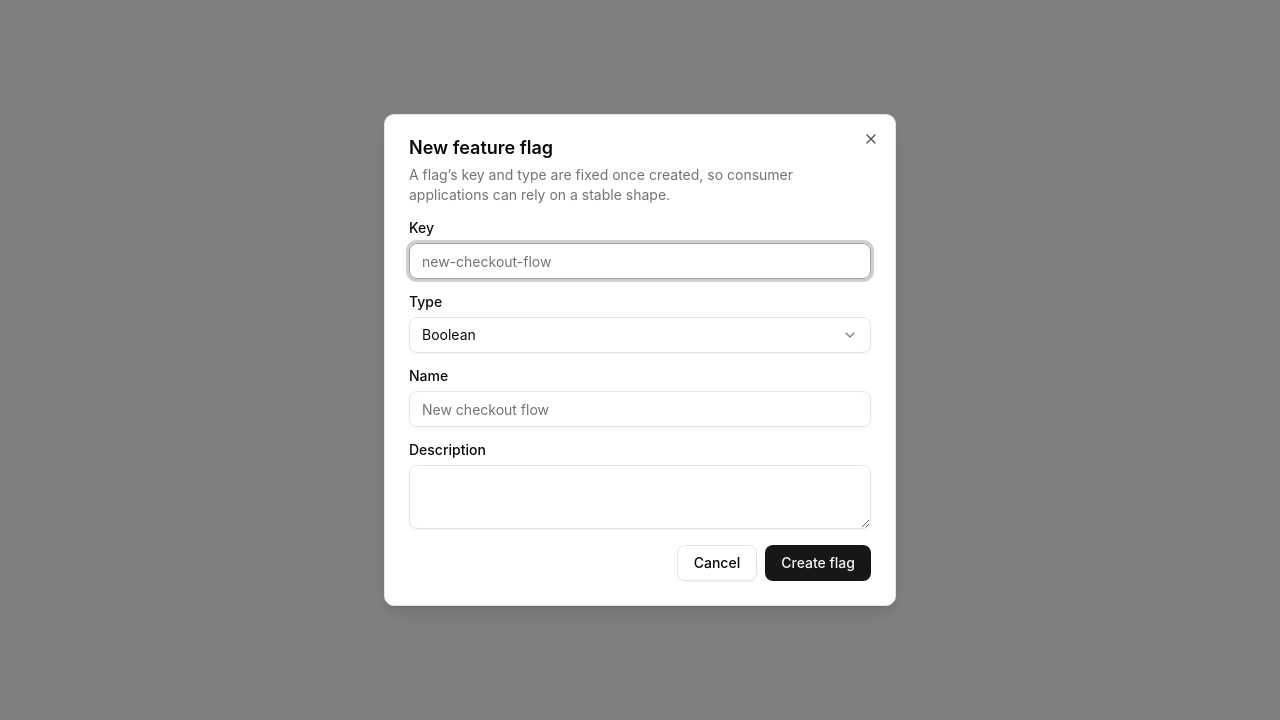
Test: FeatureFlagForm › shows a server error message when creation fails
The width and height of the screenshot is (1280, 720).
Type "new-flag" into the field labelled "Key" at (640, 261), box [409, 243, 871, 279]
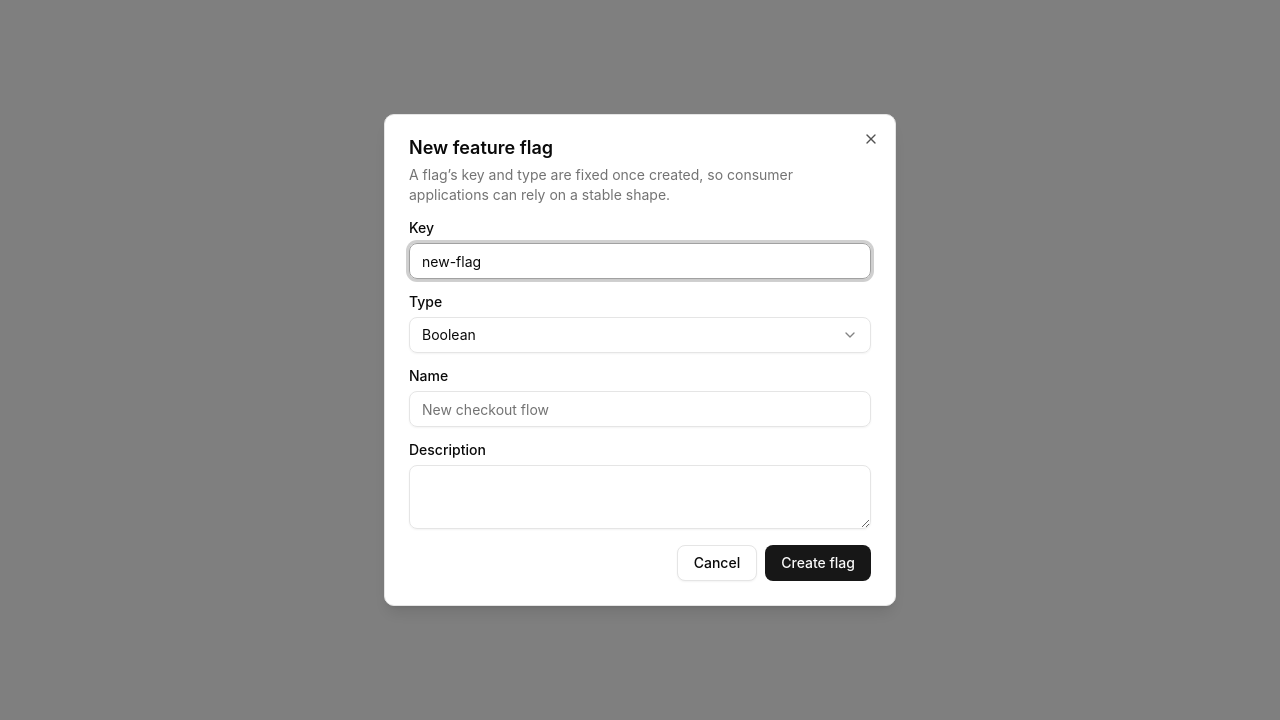
Type "New flag" into the field labelled "Name" at (640, 409), box [409, 391, 871, 427]
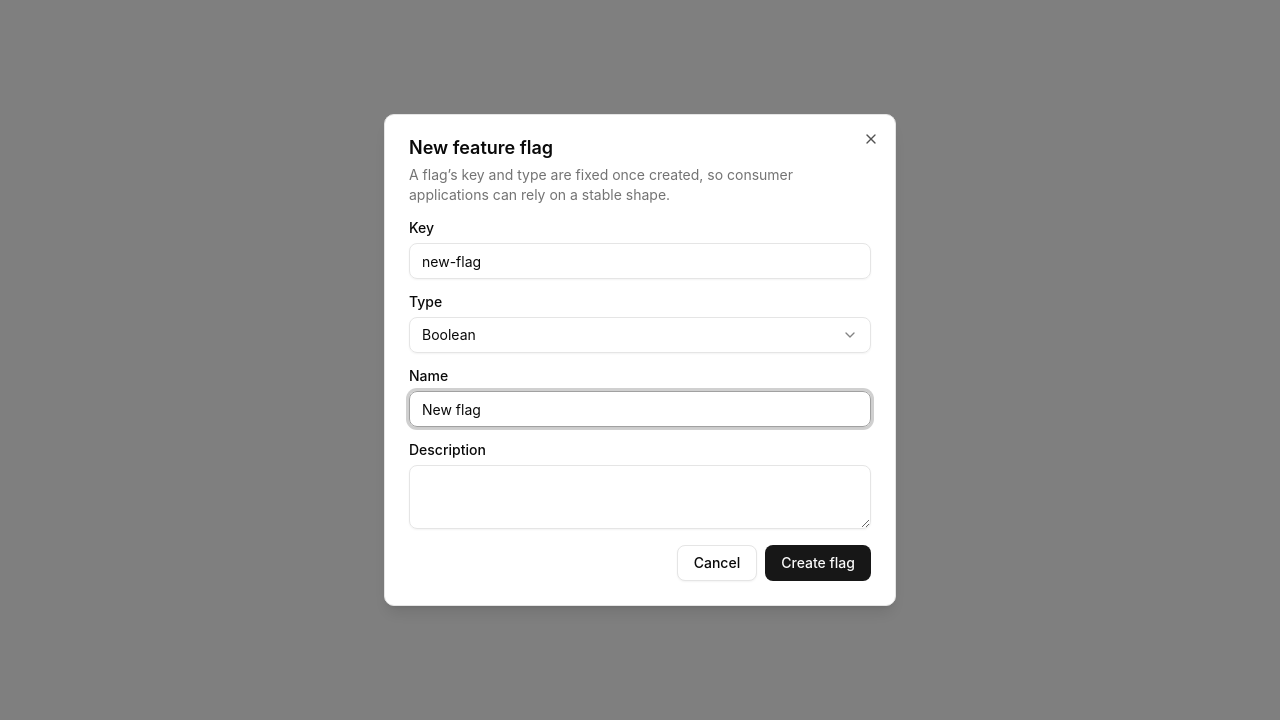
Click the button "Create flag" at (818, 563), box [765, 545, 871, 581]
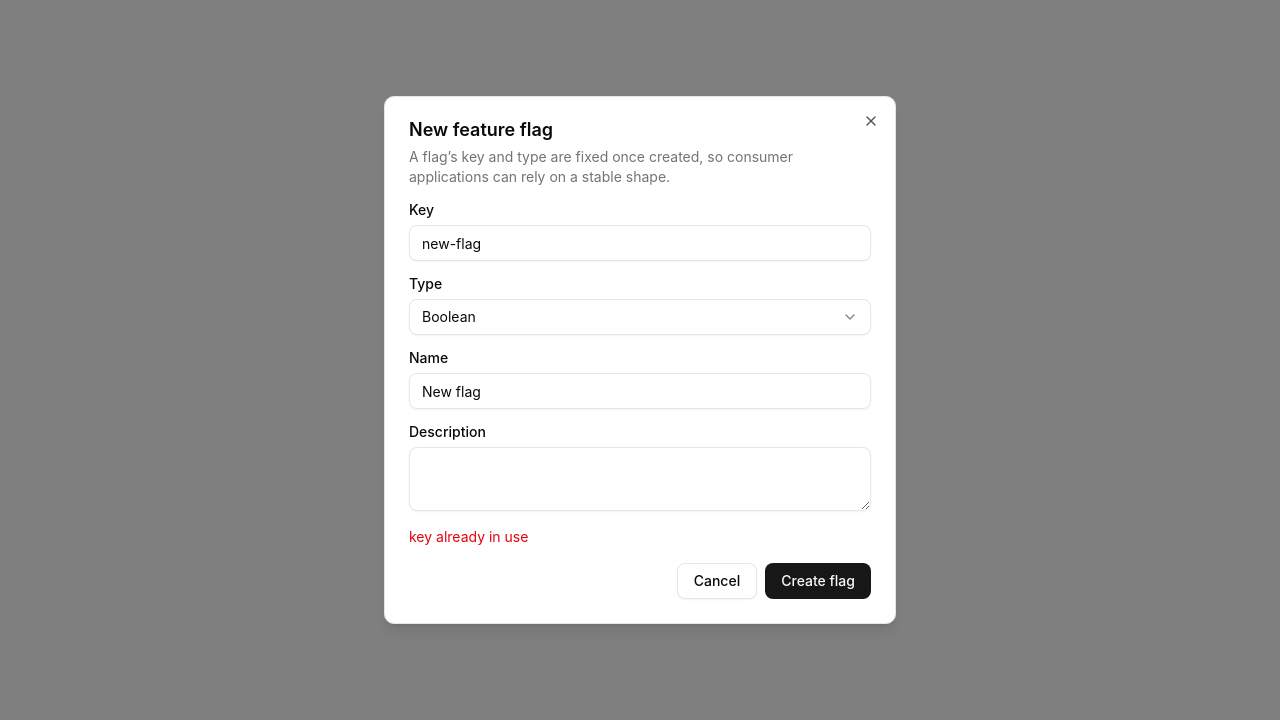
Expected: the message reads "key already in use", [409, 528, 528, 545]
